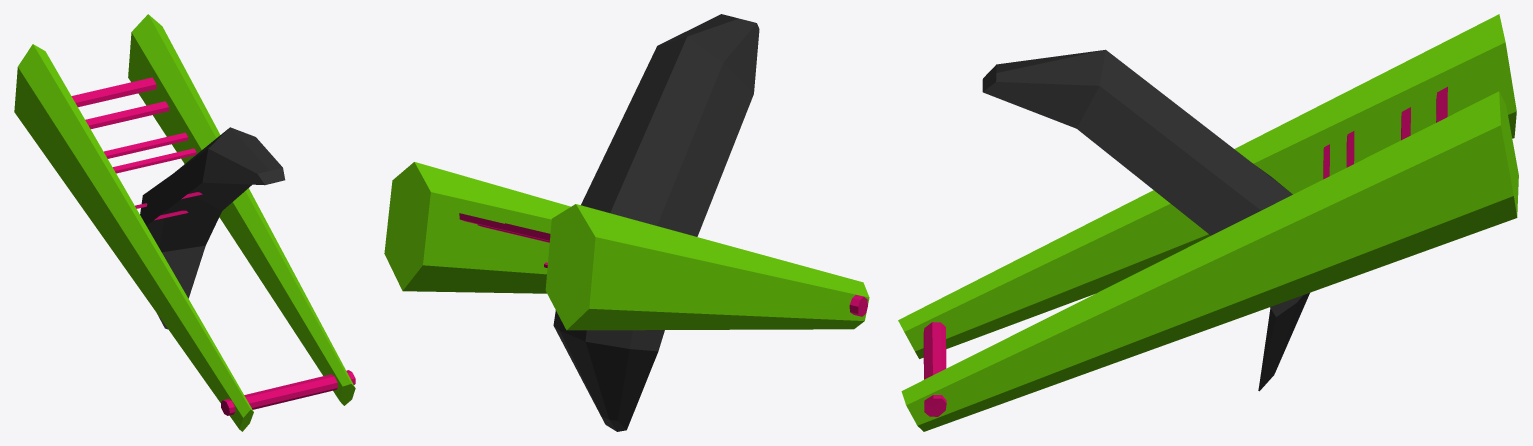
File: fram metall_uv.fbx
3 views of the same model, side by side, from view 1: azimuth 30°, elevation 25°; view 2: azimuth 150°, elevation 25°; view 3: azimuth 270°, elevation 25° (orthographic). The views are drawn at different scales.
Parts seen in each view (by area): view 1: hjulstang_fram_ny_001; view 2: hjulstang_fram_ny_001; view 3: hjulstang_fram_ny_001.
Boxes of the visible parts, box(x1,y1,x2,y2) form: hjulstang_fram_ny_001: box(14, 14, 355, 431); hjulstang_fram_ny_001: box(384, 14, 869, 431); hjulstang_fram_ny_001: box(898, 14, 1518, 431).
Bounding box in the file's own units: 59.45 × 95.14 × 154.
